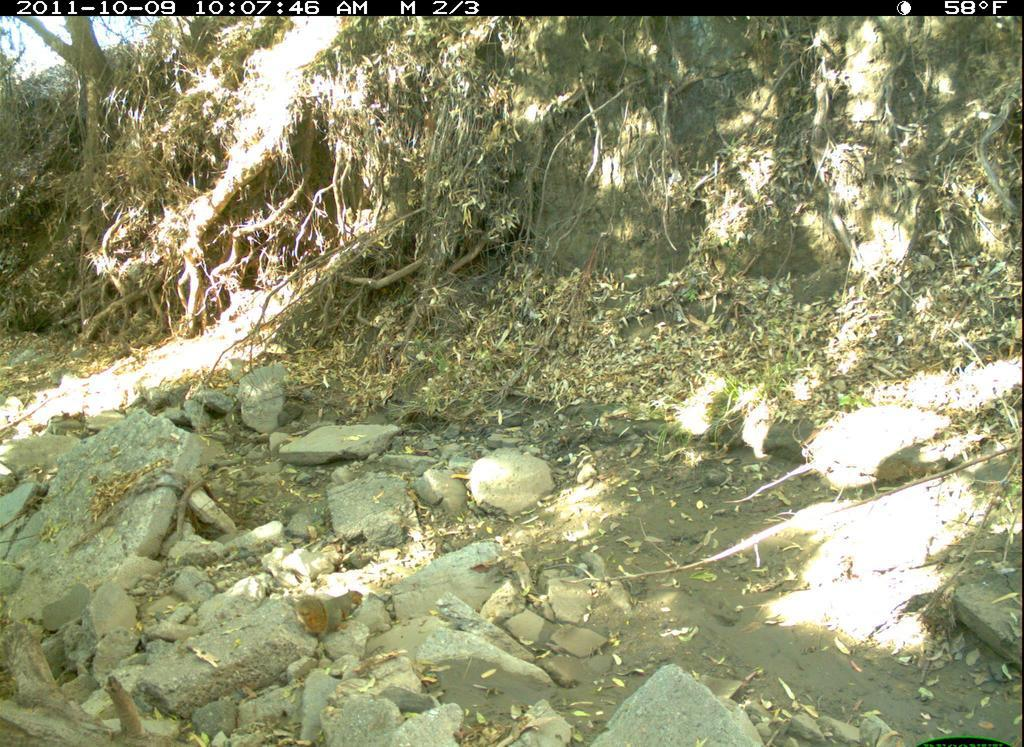squirrel: (286, 574, 374, 641)
